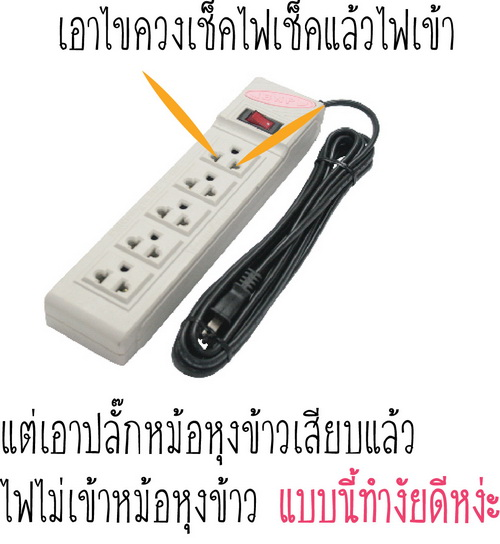Three_eye_plug: (42, 71, 330, 370)
